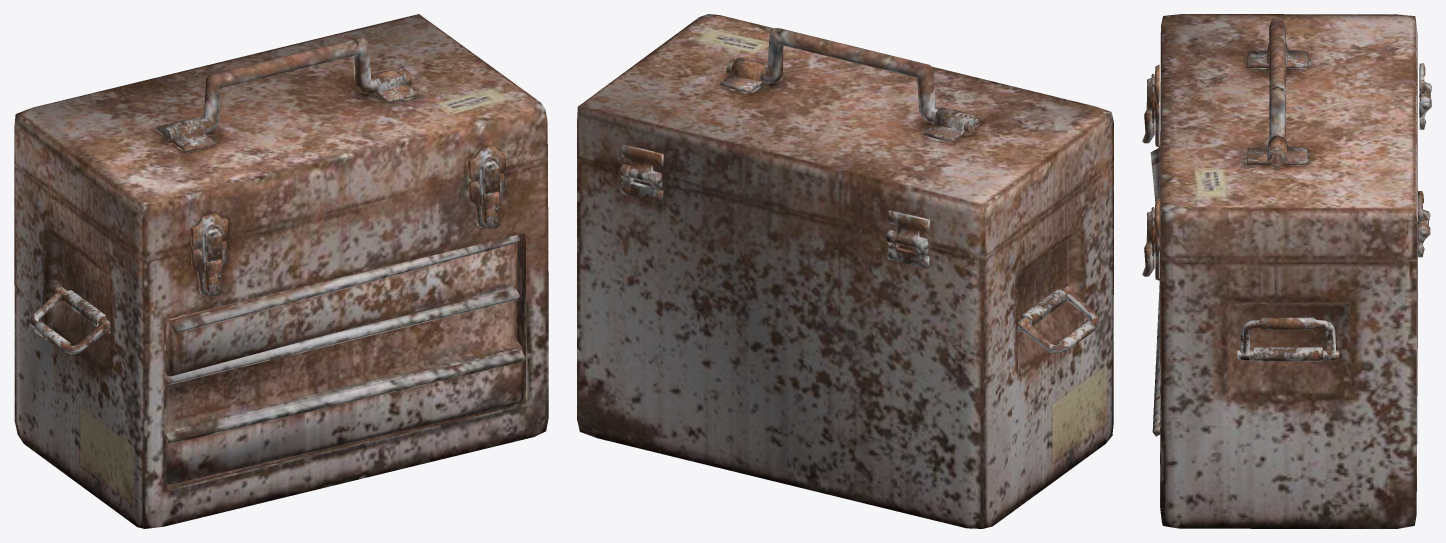
The model's file is metal_crate_a.glb.
The picture shows the model from 3 angles, left to right: view 1: azimuth 30°, elevation 25°; view 2: azimuth 150°, elevation 25°; view 3: azimuth 270°, elevation 25°; orthographic projection. The views are drawn at different scales.
Visible parts, largest first — view 1: metal_crate_a; view 2: metal_crate_a; view 3: metal_crate_a.
Part boxes in pixels (x1,y1,x2,y2): metal_crate_a: (14,14,548,528); metal_crate_a: (577,14,1113,528); metal_crate_a: (1142,14,1431,528).
Size of the model in its own units: 0.8924 by 0.7318 by 0.5075.
1 material, 1 textured.
